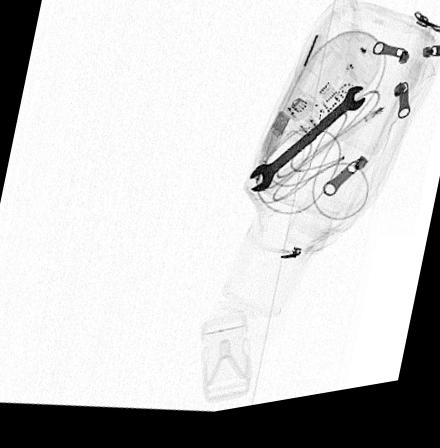Wrench: (251, 98, 366, 200)
